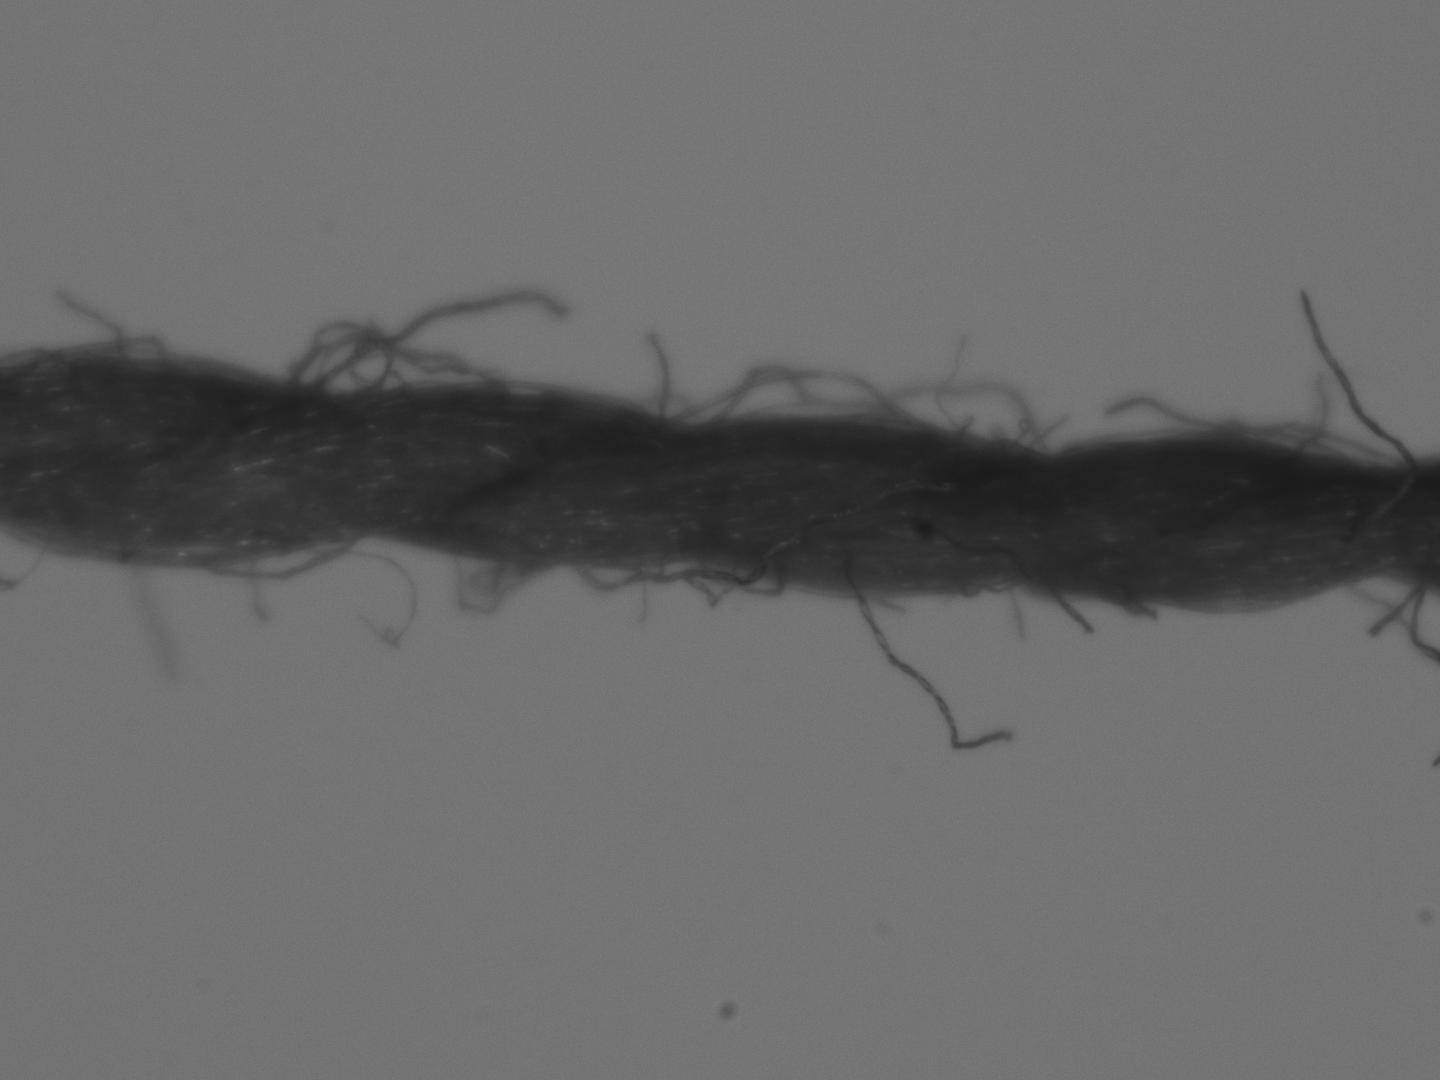loop_fiber: (653, 358, 1062, 462), (279, 314, 526, 393), (104, 531, 386, 579), (565, 560, 801, 611), (450, 543, 554, 618)
protruding_fiber: (848, 580, 1020, 754), (1106, 389, 1421, 479), (314, 289, 574, 393), (1297, 285, 1414, 472), (294, 534, 418, 648), (45, 284, 139, 368), (116, 549, 164, 673), (932, 328, 971, 447), (1286, 369, 1329, 461), (637, 321, 671, 423), (1041, 588, 1100, 640), (243, 539, 269, 635)
